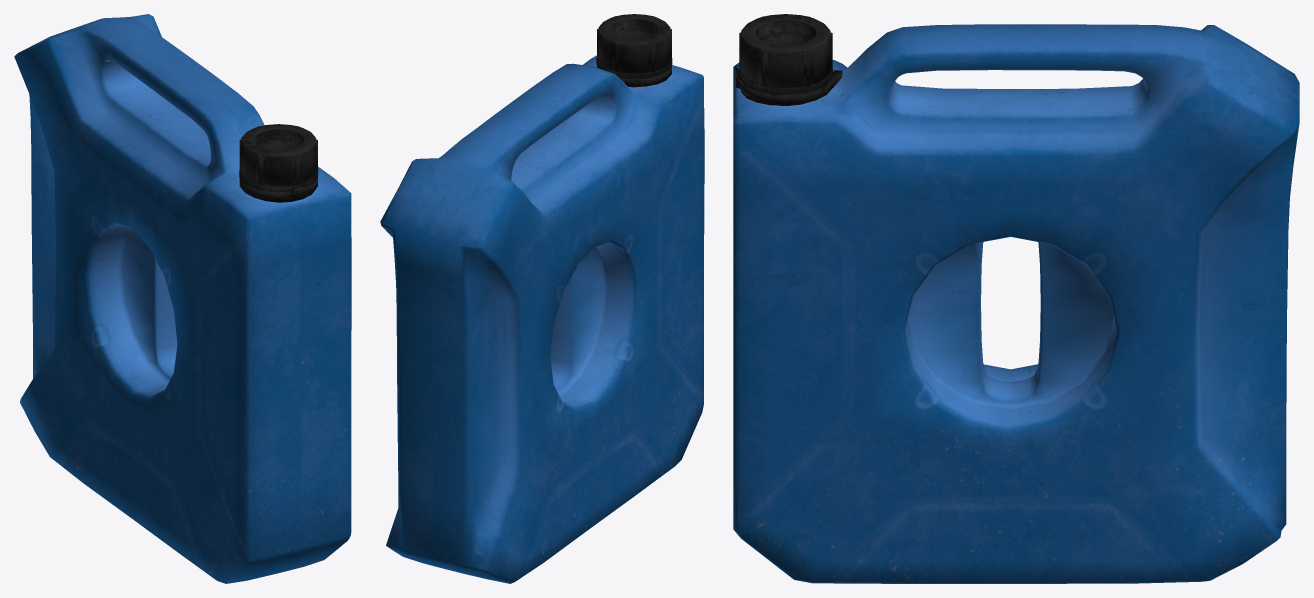
The model's file is expedition_canister_lowpoly.glb.
3 views of the same model, side by side, from view 1: azimuth 30°, elevation 25°; view 2: azimuth 150°, elevation 25°; view 3: azimuth 270°, elevation 25° (orthographic). The views are drawn at different scales.
Visible parts, largest first — view 1: barrel_barrel_0; view 2: barrel_barrel_0; view 3: barrel_barrel_0.
Part boxes in pixels (x1,y1,x2,y2): barrel_barrel_0: (14, 14, 351, 583); barrel_barrel_0: (380, 14, 704, 583); barrel_barrel_0: (733, 14, 1299, 583).
Size of the model in its own units: 7.88 by 31.08 by 30.49.
Materials: 1 (1 with a texture image).
